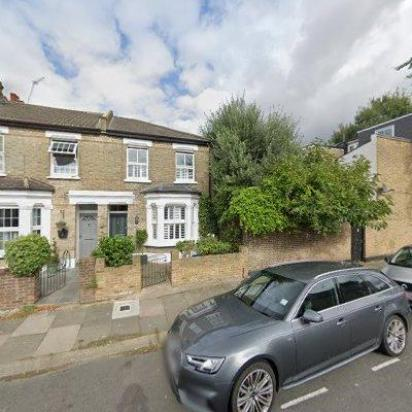stationary-car-onstreet: (162, 258, 410, 410), (380, 242, 412, 306)
